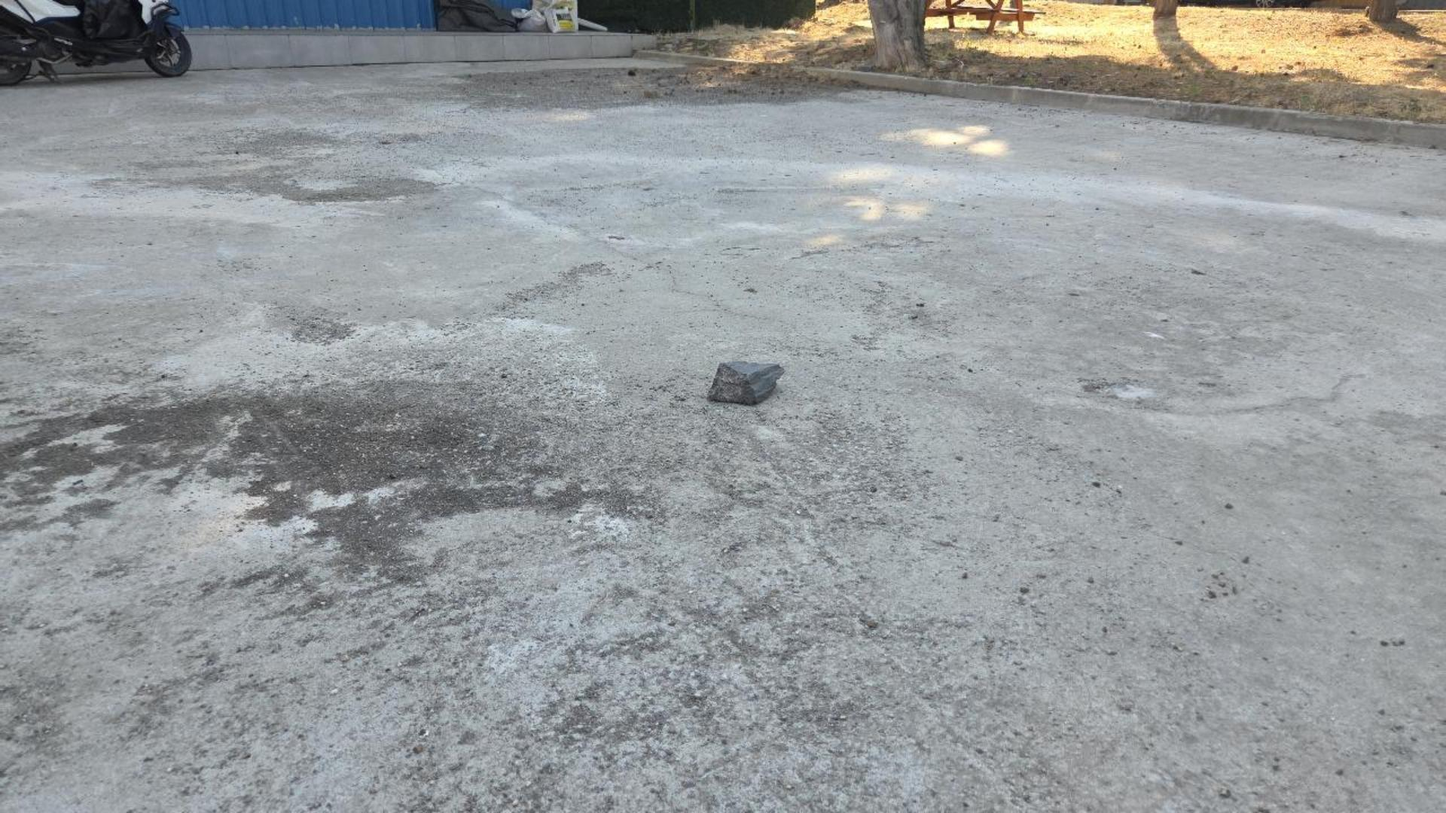rock: (707, 361, 782, 403)
